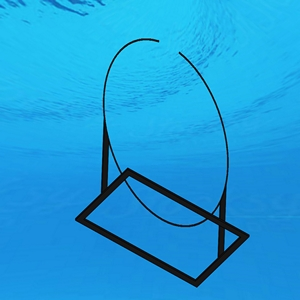circle: (76, 35, 252, 290)
